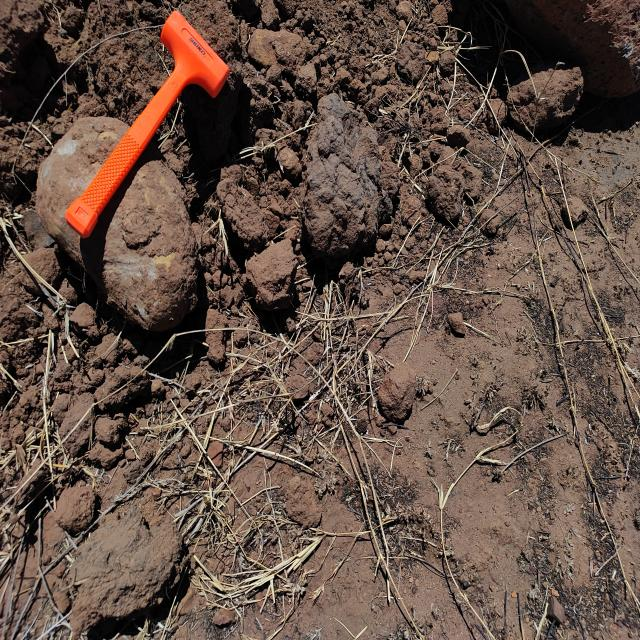Orange_hammer: (64, 9, 230, 239)
